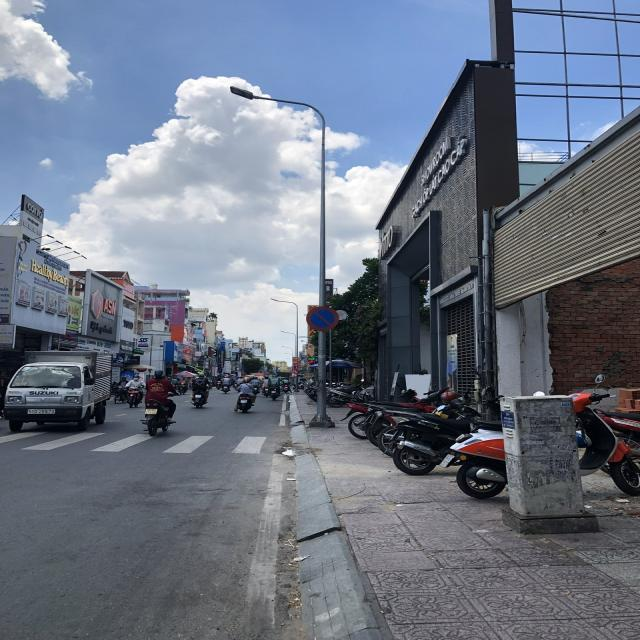Bien bao cam do xe: (304, 304, 341, 332)
